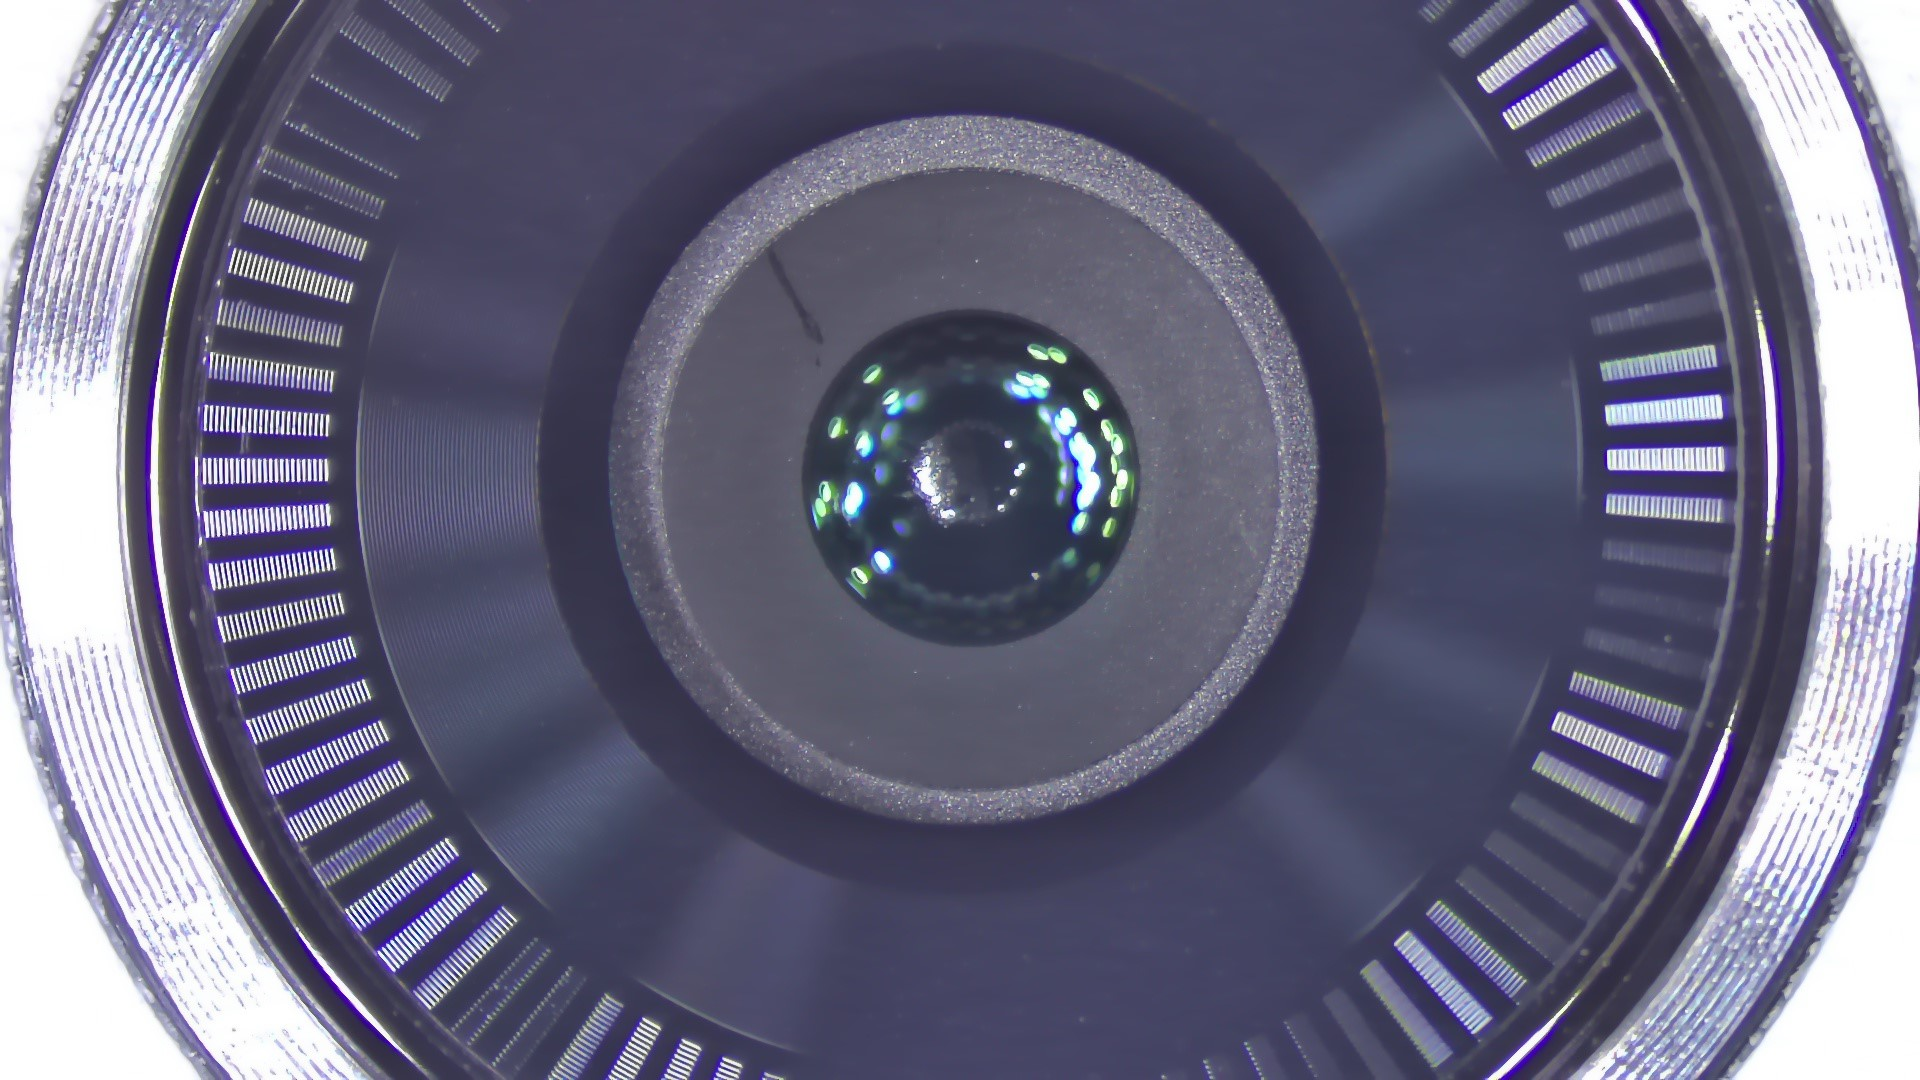crack: (754, 238, 832, 378)
